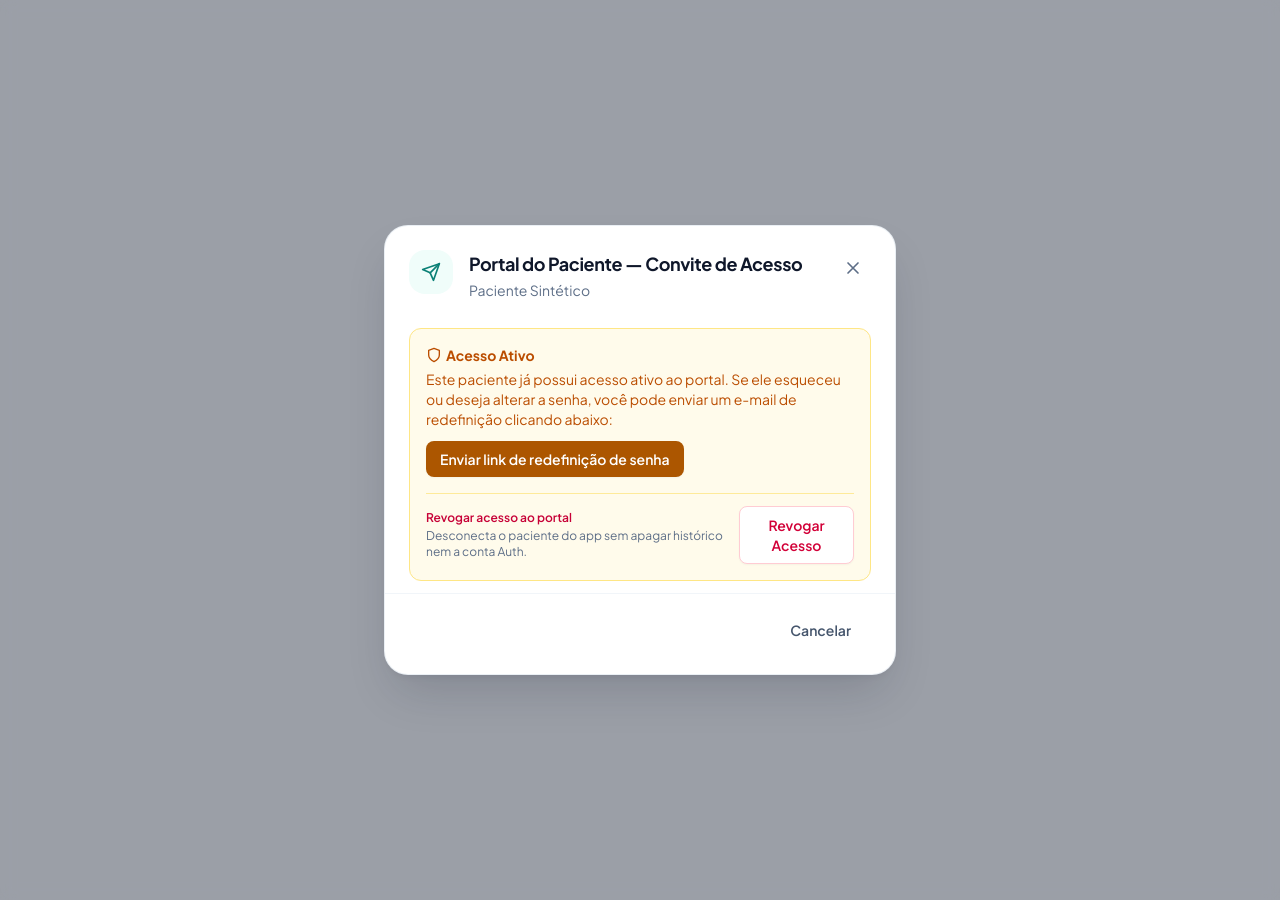
PatientAccessModal — revocation outcomes (R04) › incomplete cleanup: success plus a visible warning (not only a console message)
The width and height of the screenshot is (1280, 900).
Click the button "Revogar Acesso" at (796, 535), box x1=739 y1=506 x2=854 y2=564
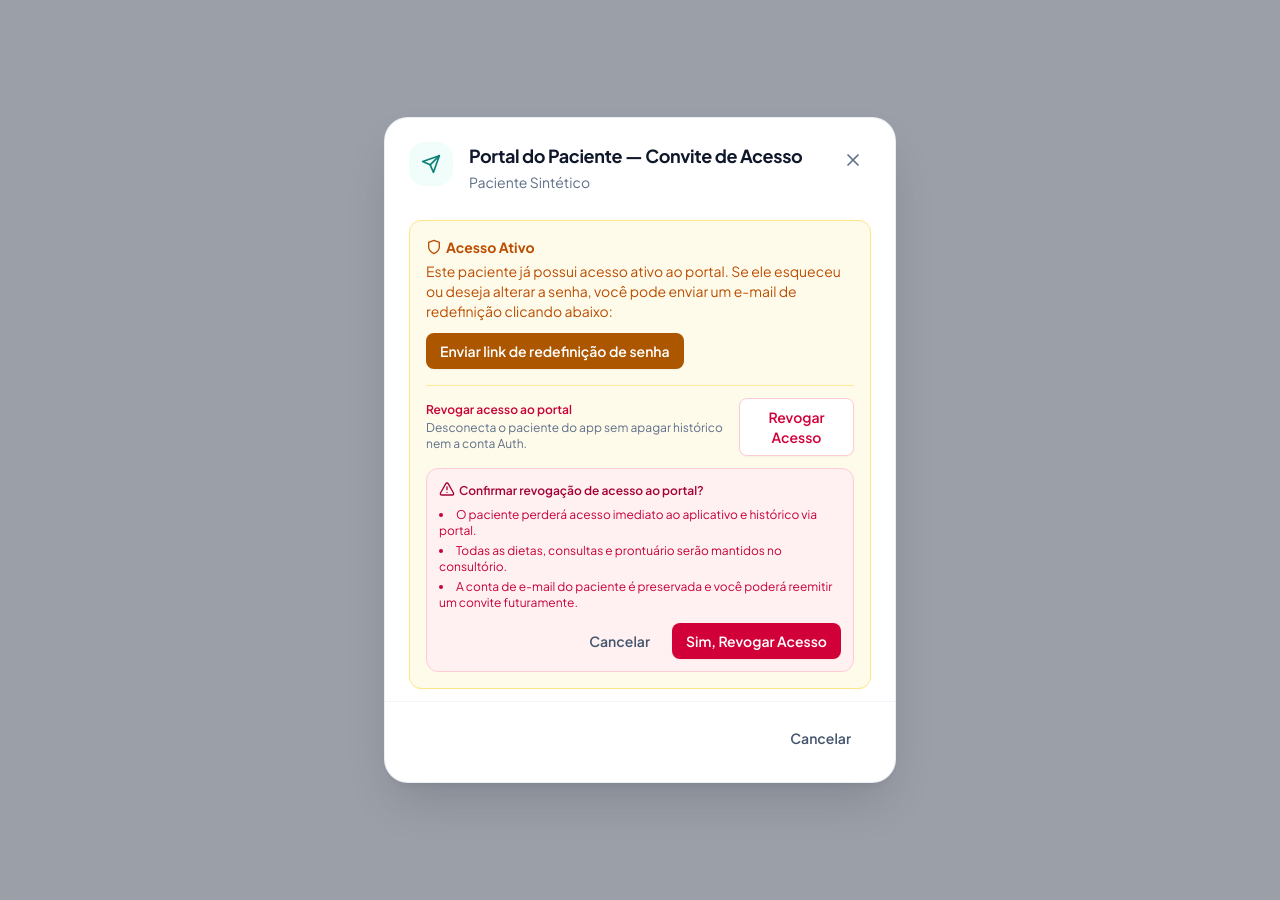
Click the button "Sim, Revogar Acesso" at (756, 641), box x1=672 y1=623 x2=841 y2=659
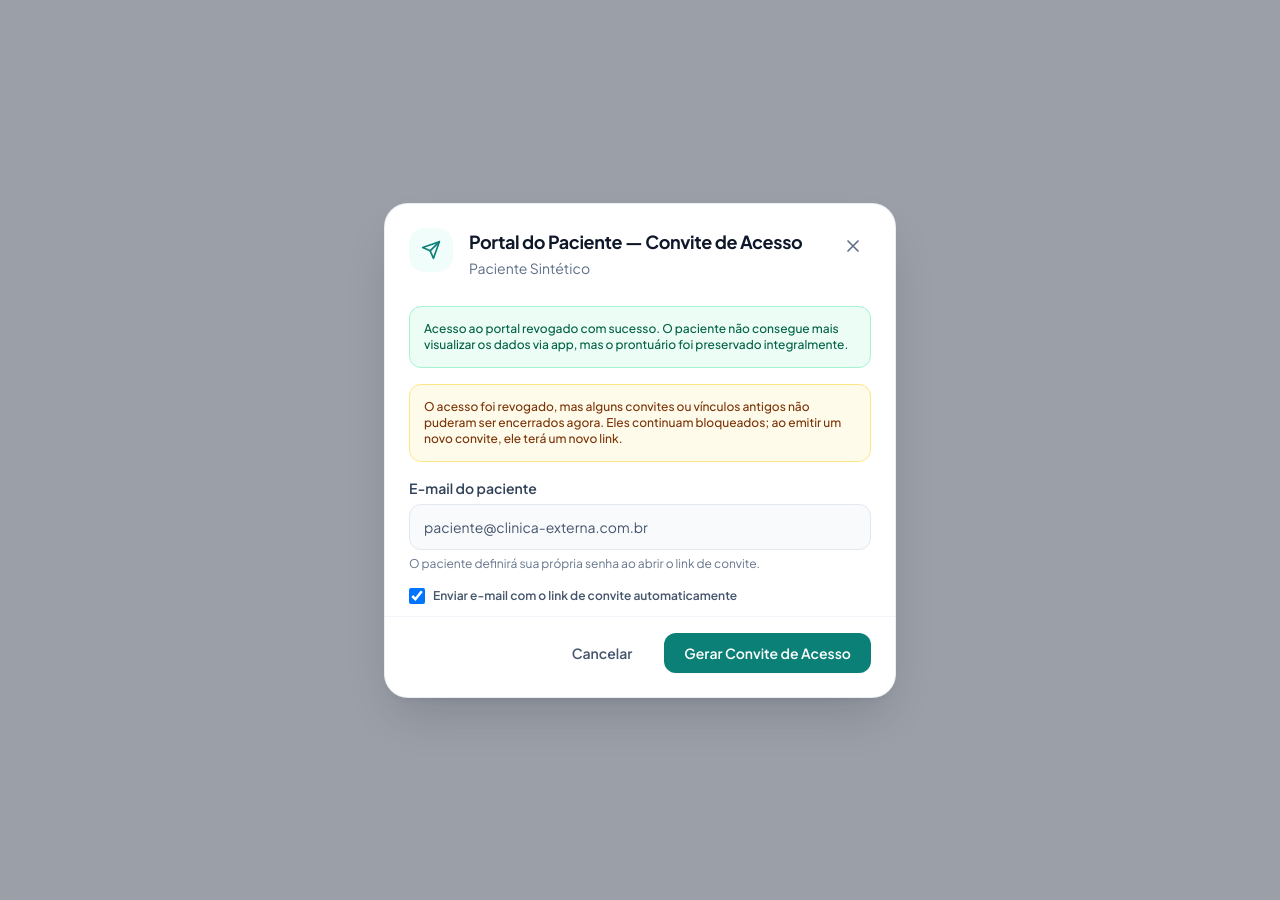
Expected: the text "Acesso ao portal revogado com sucesso" is shown, x1=424 y1=320 x2=848 y2=352
Expected: the 2nd message shows "não puderam ser encerrados", x1=424 y1=398 x2=841 y2=446
